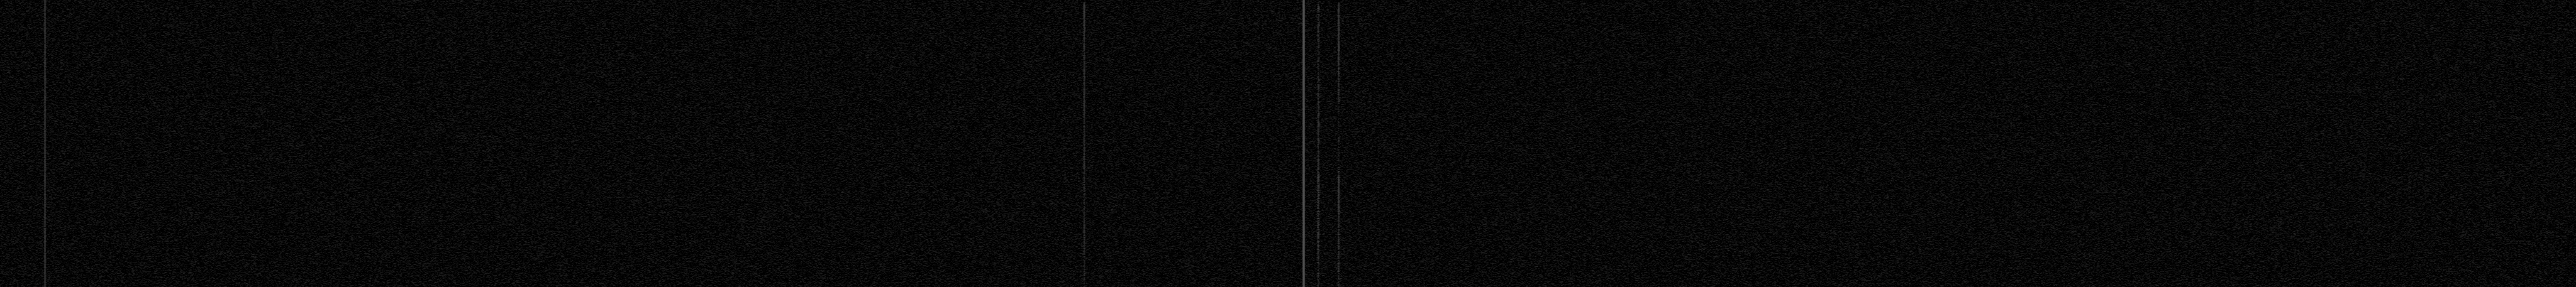wv_am: (1301, 0, 1306, 287), (43, 0, 46, 287)
wv_lsb: (1081, 2, 1086, 287)
wv_usb: (1316, 2, 1321, 287), (1337, 2, 1341, 157), (1337, 157, 1341, 287)
